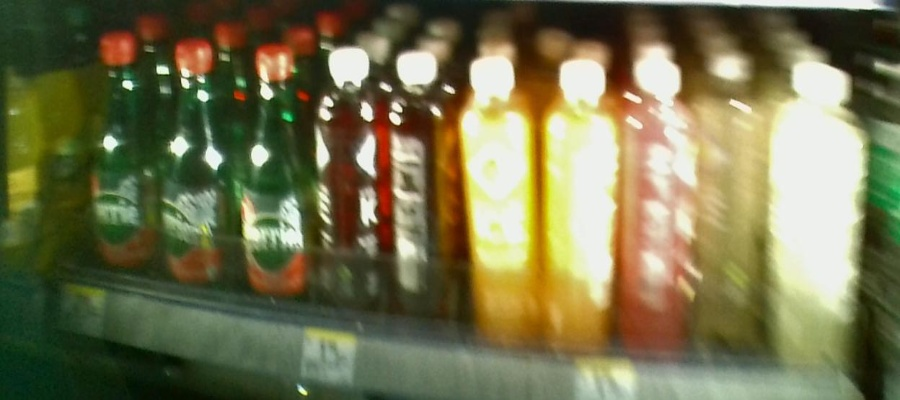bottle: (773, 55, 868, 365), (543, 54, 620, 351), (627, 44, 698, 358), (460, 59, 538, 341), (236, 37, 312, 300), (388, 41, 456, 324), (703, 48, 763, 353), (319, 39, 384, 306), (88, 26, 156, 269), (161, 40, 226, 289)
